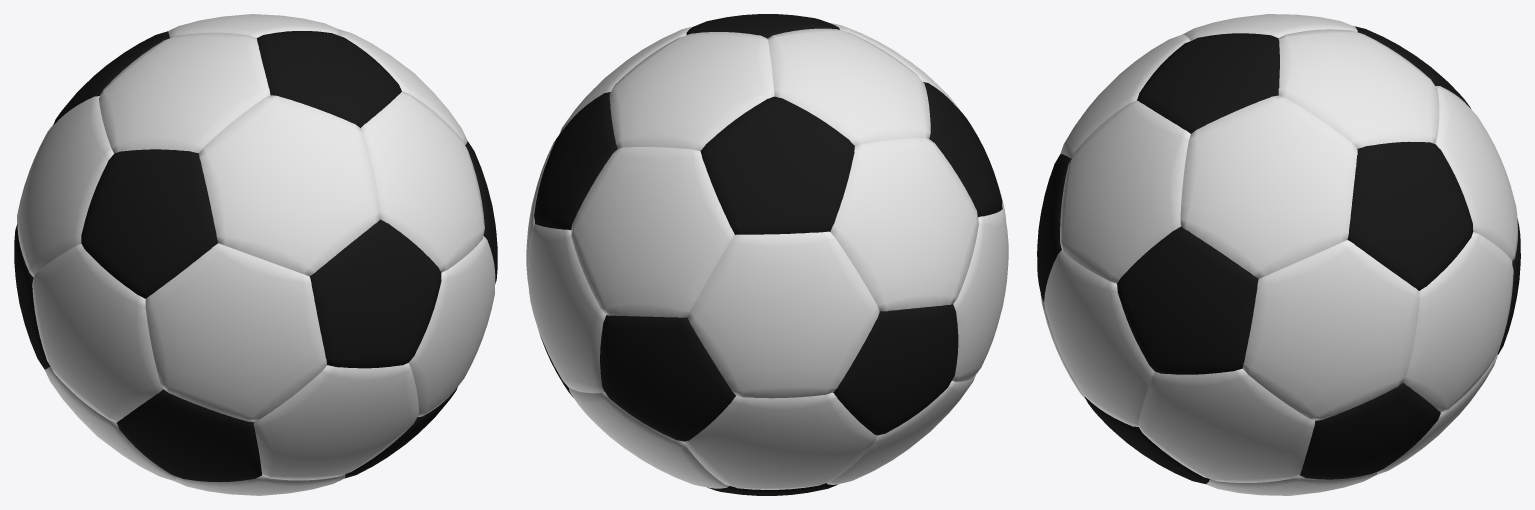
File: socerr football.fbx
The picture shows the model from 3 angles, left to right: view 1: azimuth 30°, elevation 25°; view 2: azimuth 150°, elevation 25°; view 3: azimuth 270°, elevation 25°; orthographic projection.
Visible parts, largest first — view 1: socerr_football1; view 2: socerr_football1; view 3: socerr_football1.
Part boxes in pixels (x1,y1,x2,y2): socerr_football1: (14, 14, 497, 495); socerr_football1: (526, 14, 1008, 495); socerr_football1: (1037, 14, 1520, 495).
Size of the model in its own units: 29.46 by 29.52 by 29.48.
